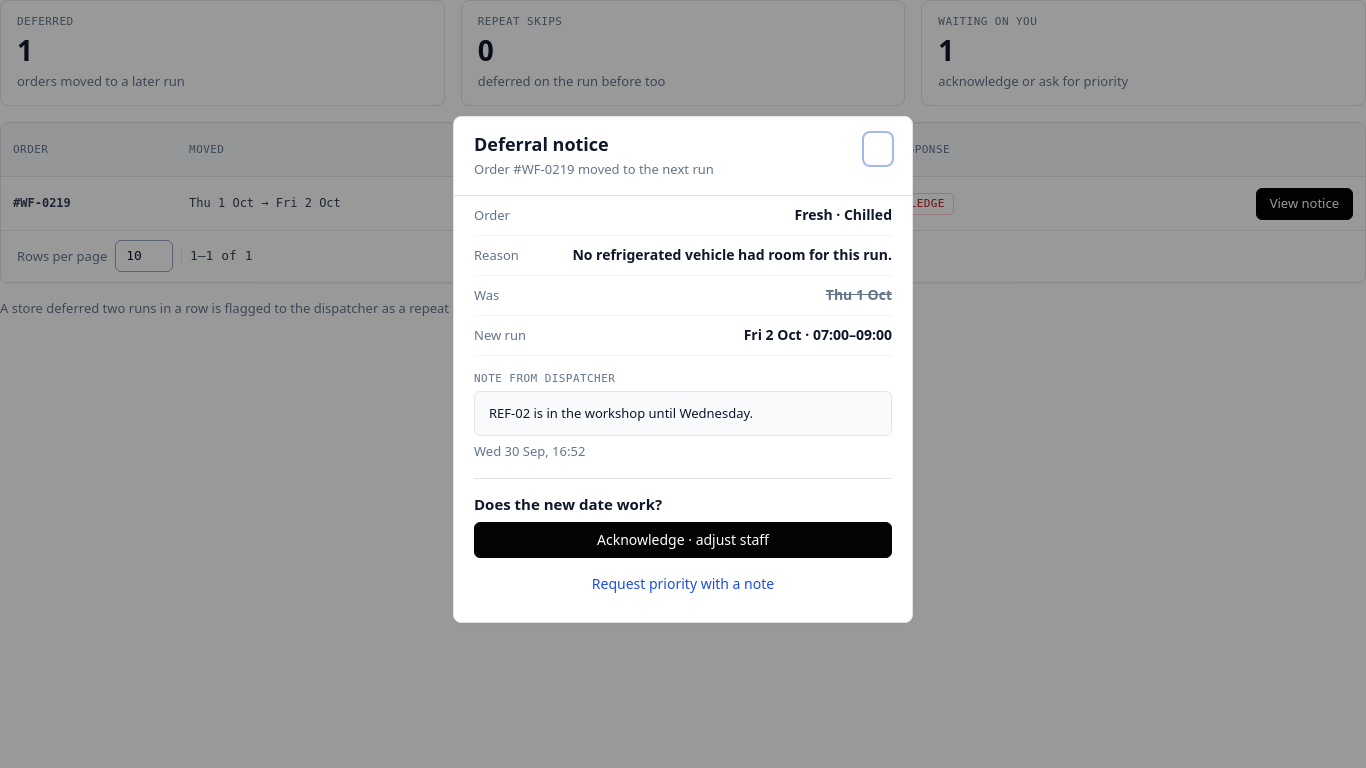
M3, M4 and M7 store orders and deferrals › AC-PLN-27 the store requests priority with a note, once
Click the button "Request priority with a note". click: click(683, 584)
box: [474,566,892,602]
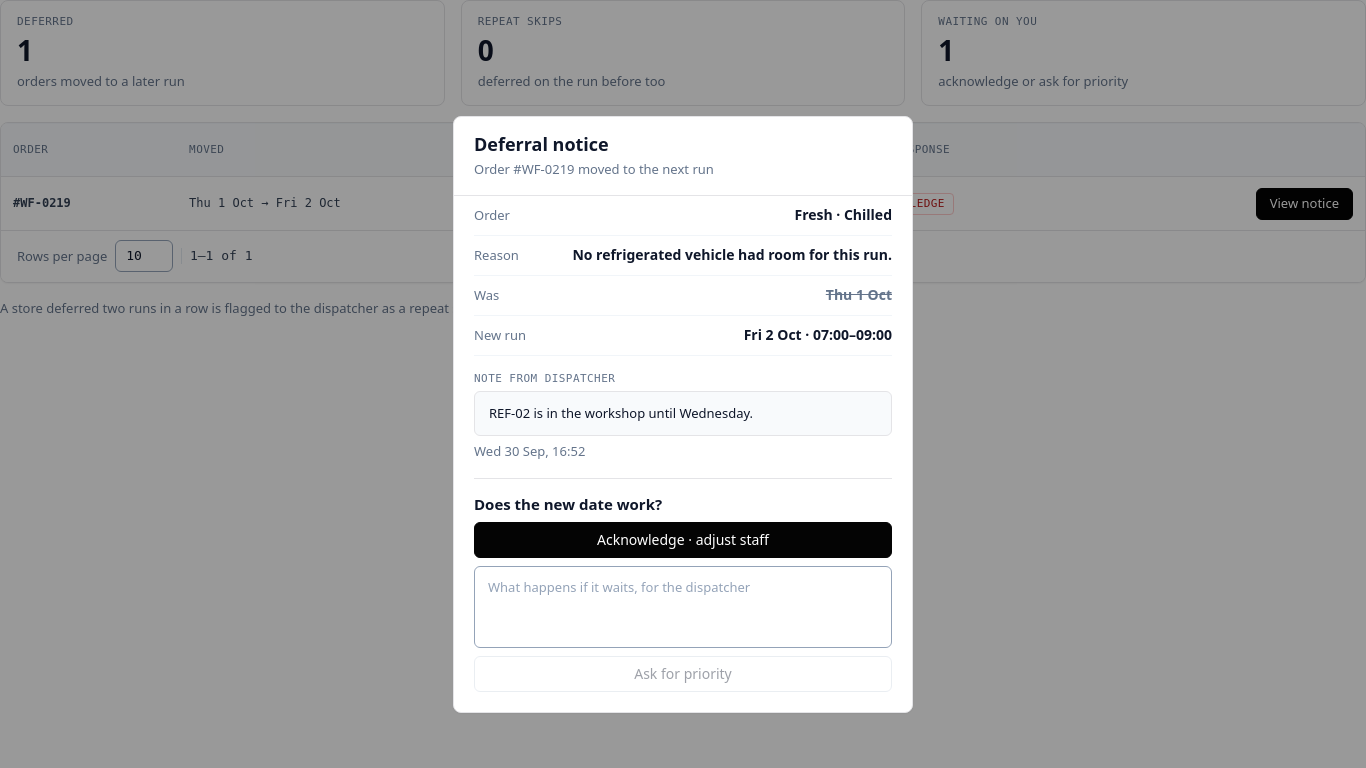
Result: the button "Ask for priority" is disabled at [474,656,892,692]
Type "We run out of milk by noon" into the text box named "Why it needs priority". click: (683, 607)
box: [474,566,892,648]
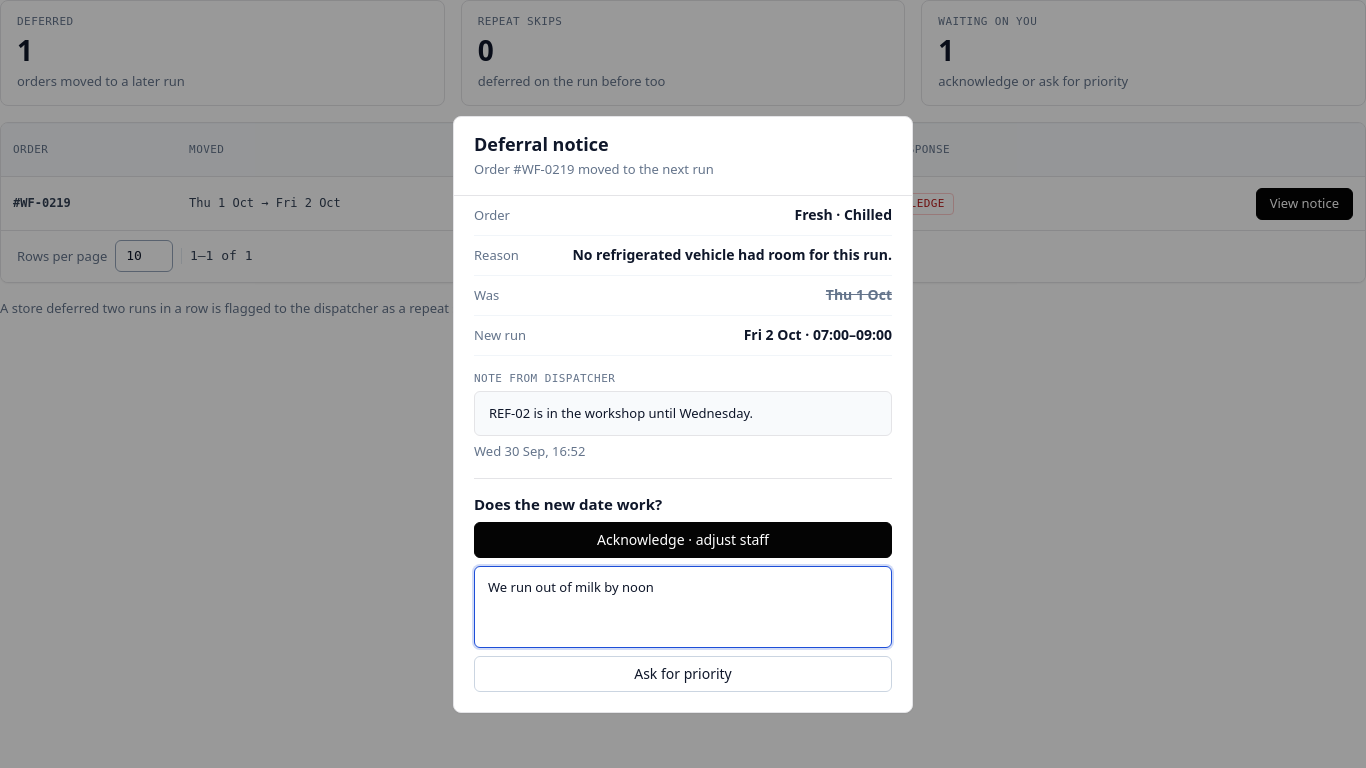
Click the button "Ask for priority". click: click(683, 674)
box: [474,656,892,692]
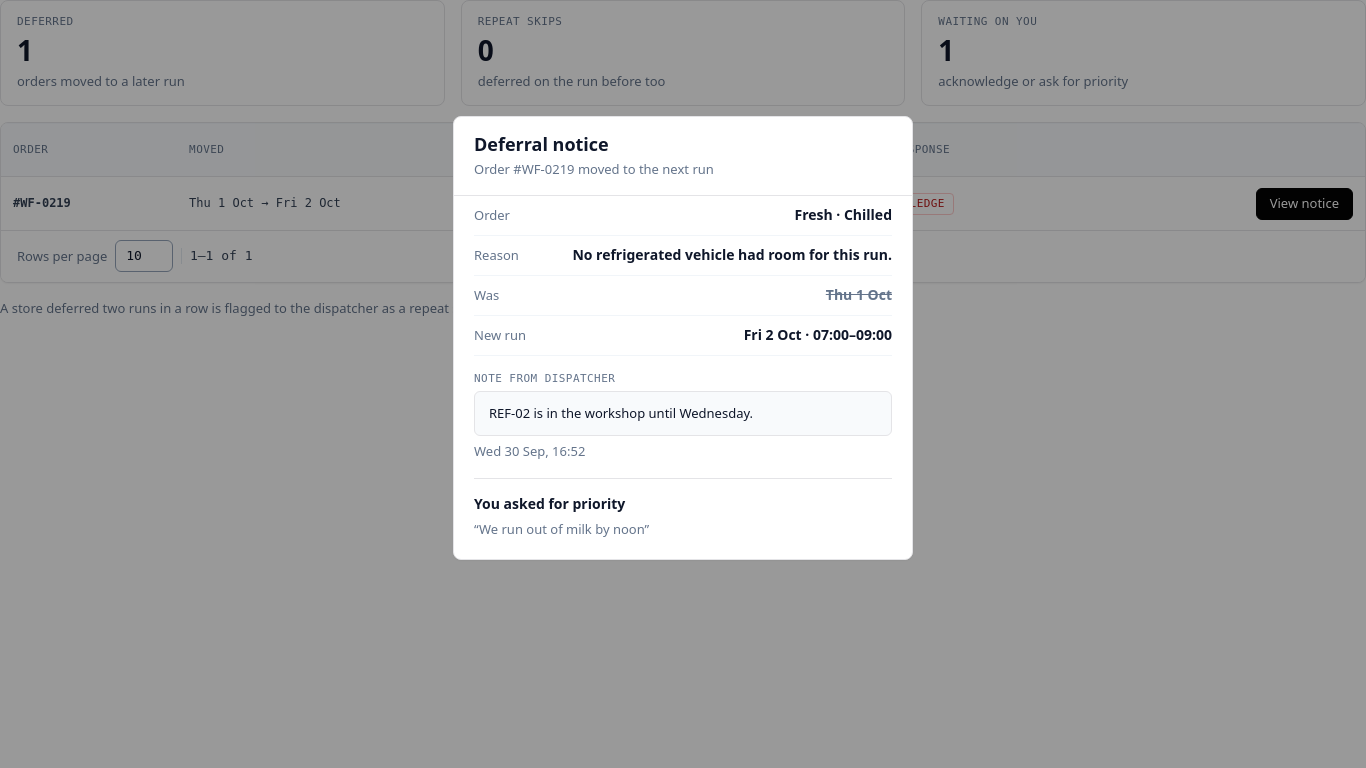
Result: the text "You asked for priority" is shown at [474,494,625,513]
